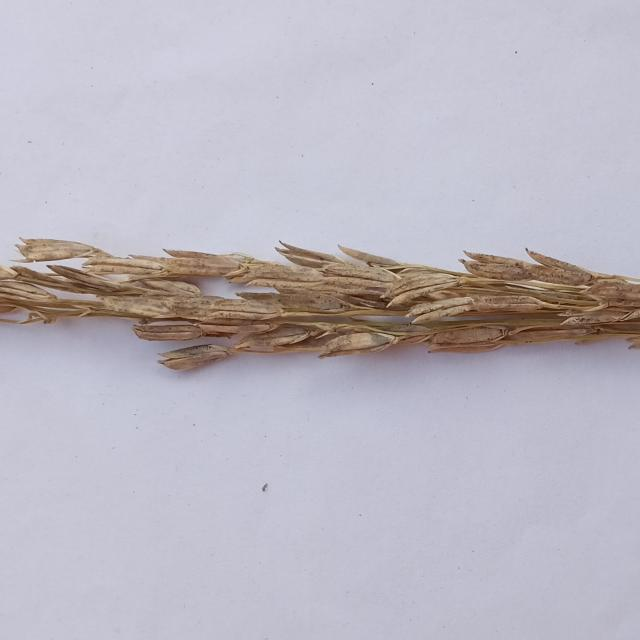Neck_Blast: (2, 237, 640, 377)
